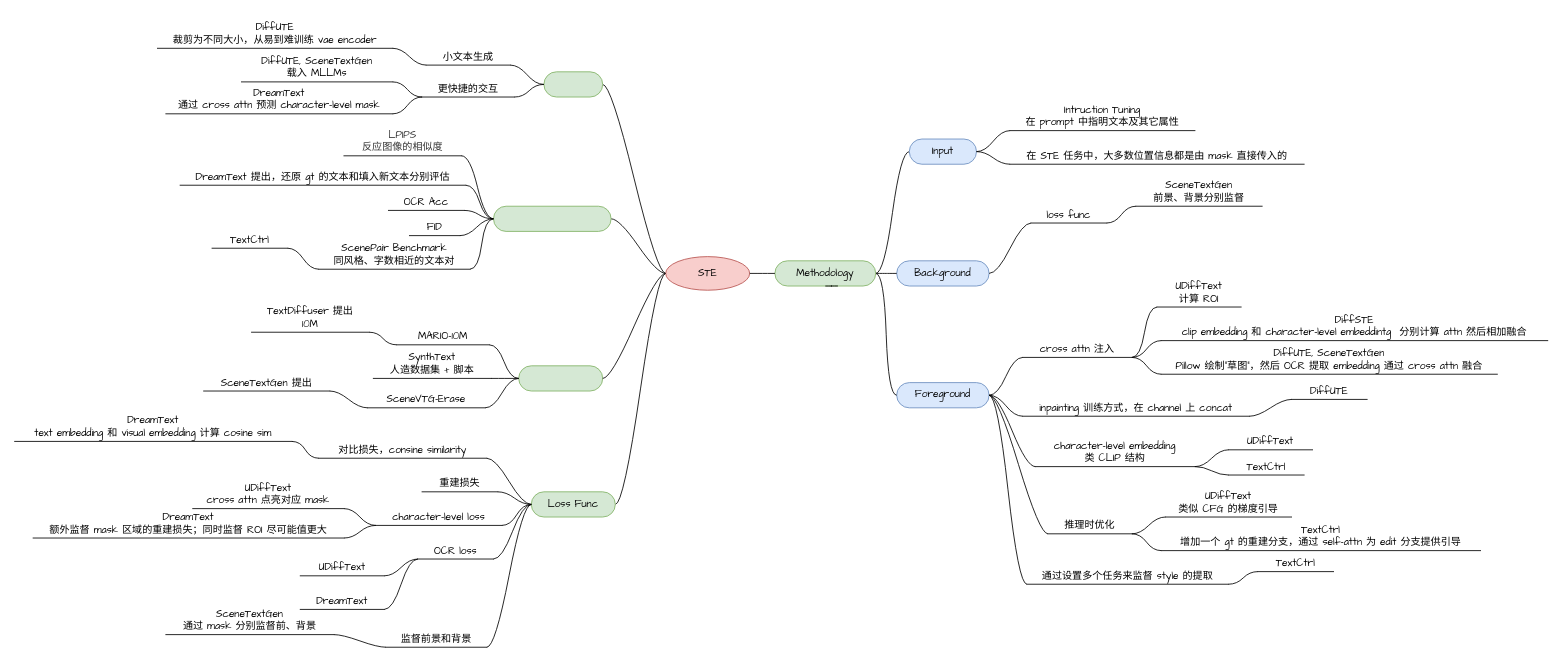
Some shapes in this 1562 by 662 pixel diagram are drawn without their labels. Here are the shapes that lost their labels. From the top down, the centre of each, then its label:
the point at 573,84: Idea
the point at 552,218: Evaluation Metric
the point at 560,378: Datasets
